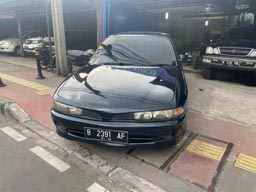plat: (86, 128, 128, 139)
